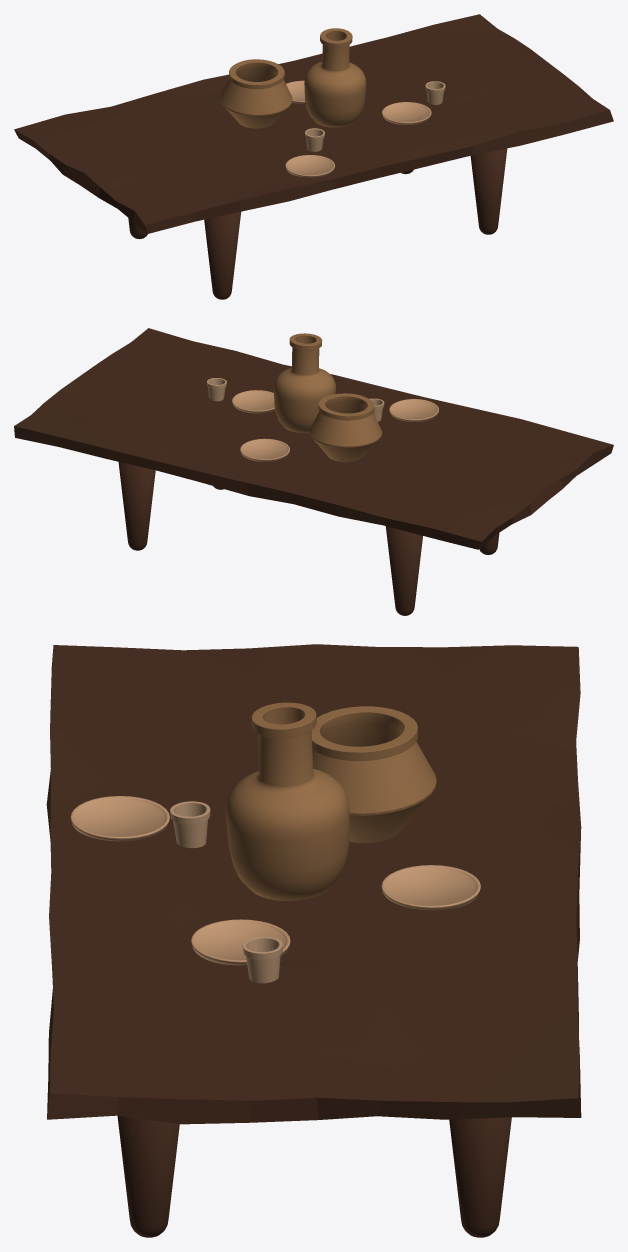
The model's file is TableA_setup.fbx.
The picture shows the model from 3 angles, top to bottom: view 1: azimuth 30°, elevation 25°; view 2: azimuth 150°, elevation 25°; view 3: azimuth 270°, elevation 25°; orthographic projection. The views are drawn at different scales.
Parts seen in each view (by area): view 1: TableA.001; view 2: TableA.001; view 3: TableA.001.
Boxes of the visible parts, x1,y1,x2,y2 form: TableA.001: (14, 14, 613, 299); TableA.001: (14, 328, 613, 615); TableA.001: (46, 644, 581, 1237).
Size of the model in its own units: 314 by 130 by 155.
Materials: 1 (1 with a texture image).
